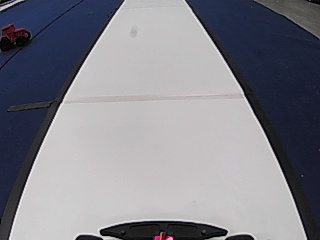tractor: (0, 22, 30, 50)
